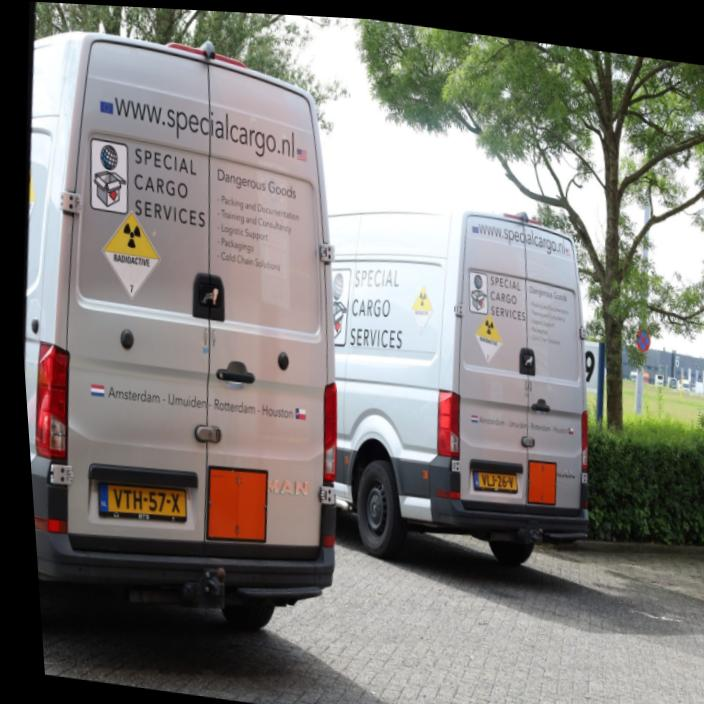doorway: (103, 213, 159, 299), (476, 315, 502, 362), (412, 287, 432, 333)
